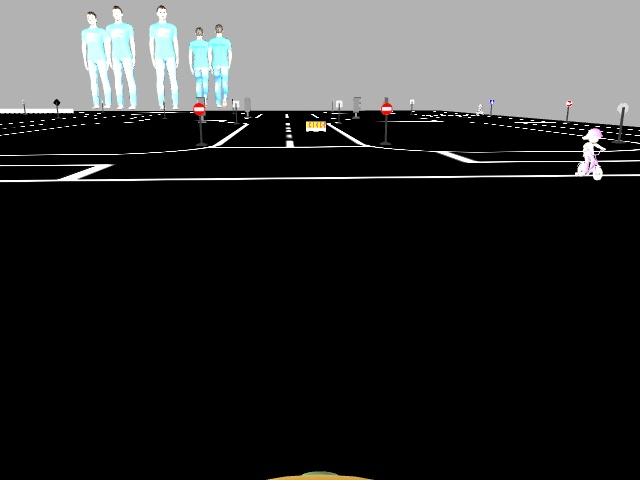ClosedRoadStand: (305, 121, 325, 131)
NoEntry: (192, 104, 206, 116), (380, 104, 392, 114)
Pedestrian: (580, 128, 606, 182)
